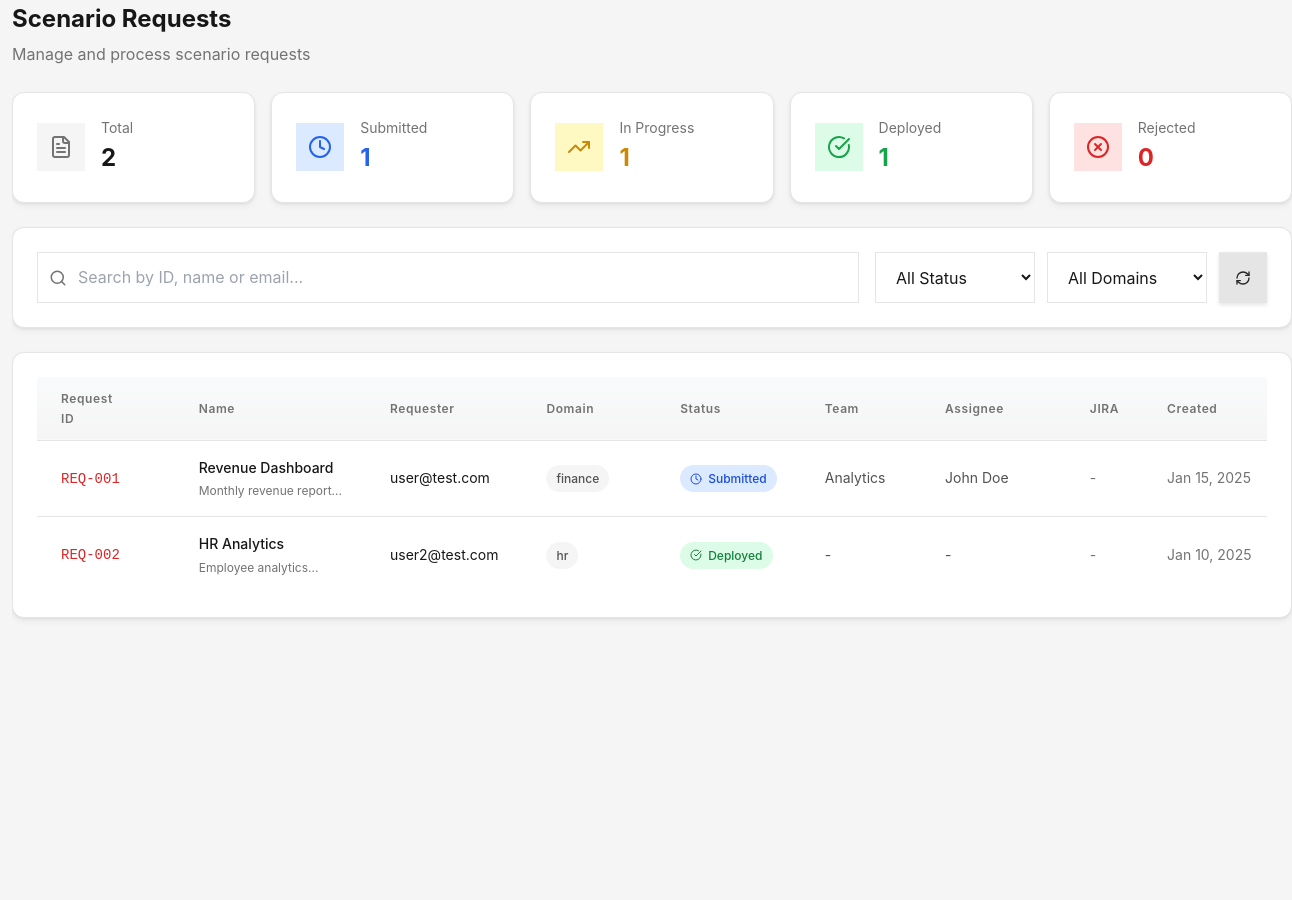
Scenario: ScenarioRequestsManagement › filters requests by search
Expected: the text "Revenue Dashboard" is shown, [199, 457, 342, 479]
Expected: the text "HR Analytics" is shown, [199, 535, 284, 552]
Type "Revenue" into the field with placeholder "Search by ID, name or email..." at (448, 278), box [37, 252, 859, 303]
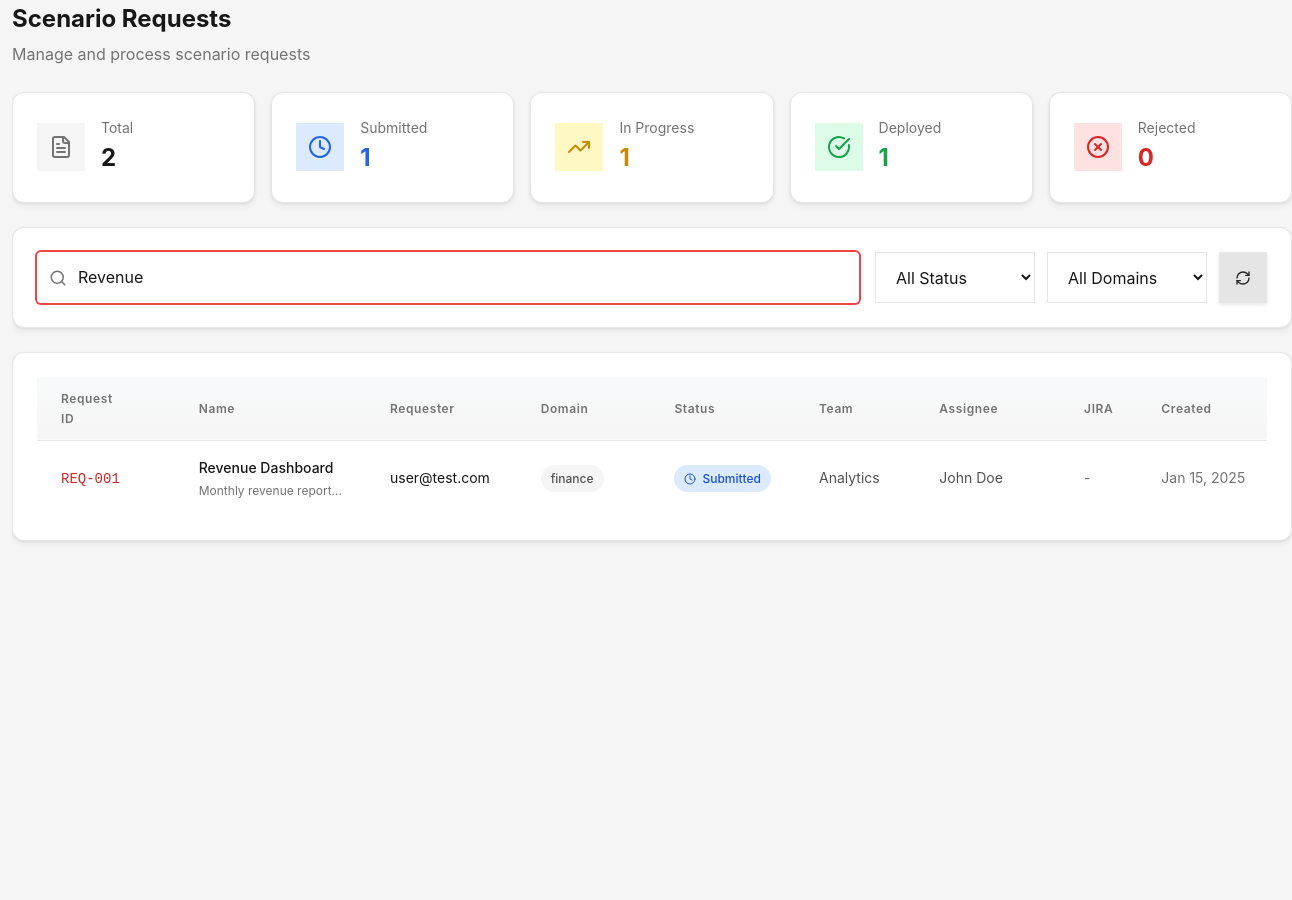
Expected: the text "Revenue Dashboard" is shown, [199, 457, 342, 479]
Expected: the text "HR Analytics" is gone
